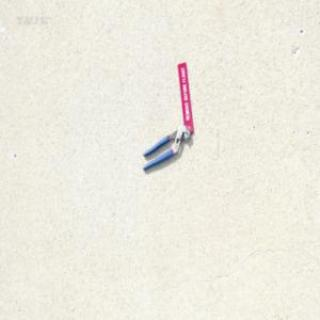LuggageTagtrack_idkeyframe: (176, 60, 194, 132)
Pliertrack_idkeyframe: (142, 124, 190, 171)
